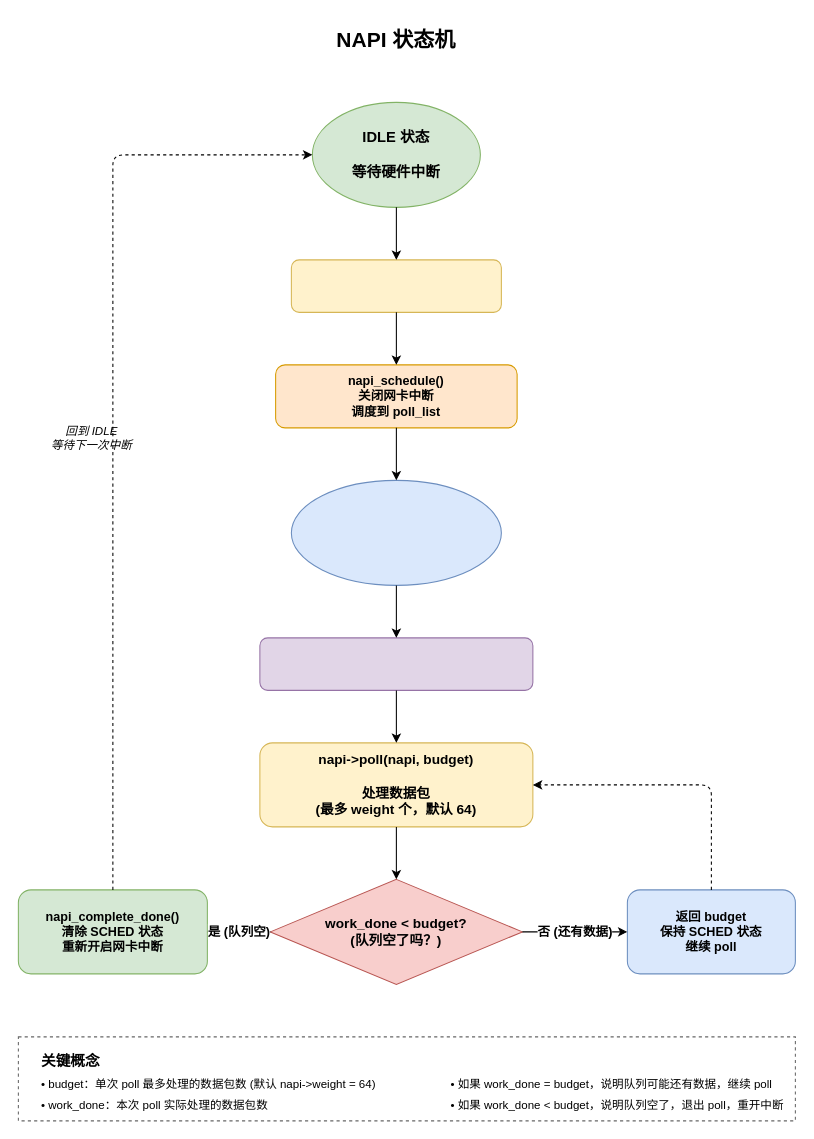
Some shapes in this 814 by 1139 pixel diagram are drawn without their labels. Here are the shapes that lost their labels. From the top down, the centre of each, then its label:
At (395,285): "硬件中断到达 (网卡收到数据包)".
At (395,532): "NAPI_STATE_SCHED 已调度，等待软中断处理".
At (396,663): "软中断上下文：net_rx_action() 遍历 poll_list".
